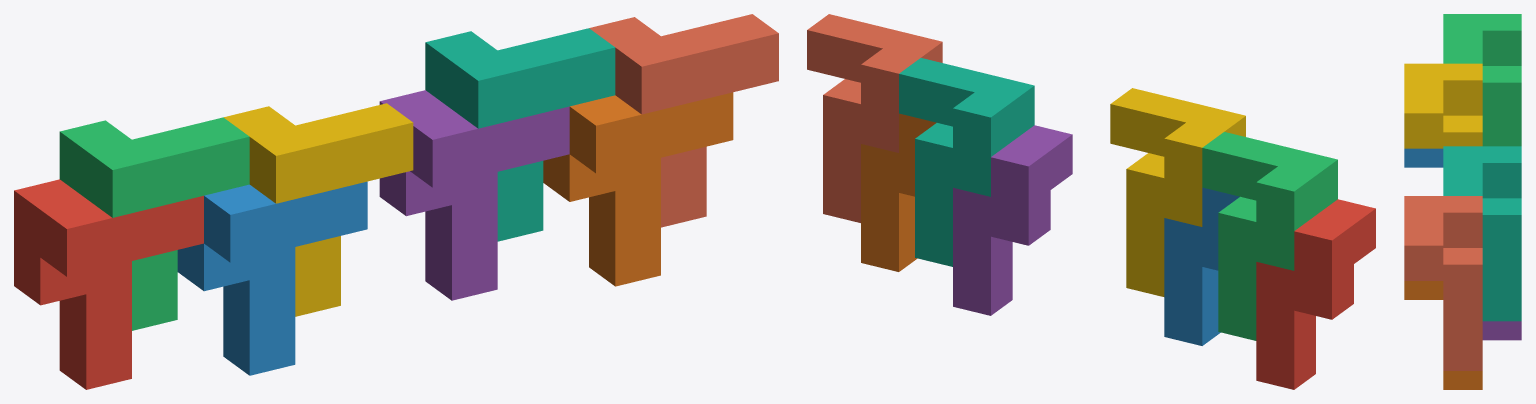
File: tiling.obj
3 views of the same model, side by side, from view 1: azimuth 30°, elevation 25°; view 2: azimuth 150°, elevation 25°; view 3: azimuth 270°, elevation 25° (orthographic). The views are drawn at different scales.
Visible parts, largest first — view 1: copy_1_domain_1, copy_1_domain_5, copy_1_domain_2, copy_1_domain_6, copy_1_domain_7, copy_1_domain_3, copy_1_domain_4, copy_1_domain_8; view 2: copy_1_domain_3, copy_1_domain_7, copy_1_domain_4, copy_1_domain_8, copy_1_domain_1, copy_1_domain_5, copy_1_domain_2, copy_1_domain_6; view 3: copy_1_domain_8, copy_1_domain_7, copy_1_domain_3, copy_1_domain_4, copy_1_domain_6, copy_1_domain_2, copy_1_domain_5.
Boxes of the visible parts, x1,y1,x2,y2 form: copy_1_domain_1: (14,179,203,389); copy_1_domain_5: (379,90,569,300); copy_1_domain_2: (177,181,367,375); copy_1_domain_6: (543,92,733,286); copy_1_domain_7: (425,28,615,241); copy_1_domain_3: (59,117,249,330); copy_1_domain_4: (224,103,413,316); copy_1_domain_8: (589,14,778,227); copy_1_domain_3: (1202,132,1337,340); copy_1_domain_7: (899,58,1034,266); copy_1_domain_4: (1110,88,1245,296); copy_1_domain_8: (807,14,942,222); copy_1_domain_1: (1256,199,1375,389); copy_1_domain_5: (953,125,1072,315); copy_1_domain_2: (1164,187,1239,345); copy_1_domain_6: (861,113,936,271); copy_1_domain_8: (1404,196,1482,370); copy_1_domain_7: (1443,146,1521,321); copy_1_domain_3: (1443,14,1521,146); copy_1_domain_4: (1404,63,1482,148); copy_1_domain_6: (1404,281,1482,389); copy_1_domain_2: (1404,148,1443,167); copy_1_domain_5: (1482,321,1521,340).
Size of the model in its own units: 15 by 5 by 3.
